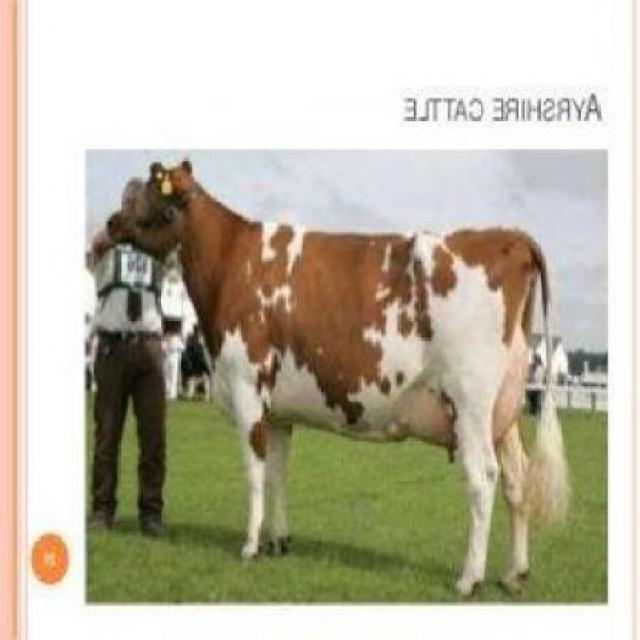Cow: (103, 154, 580, 601)
